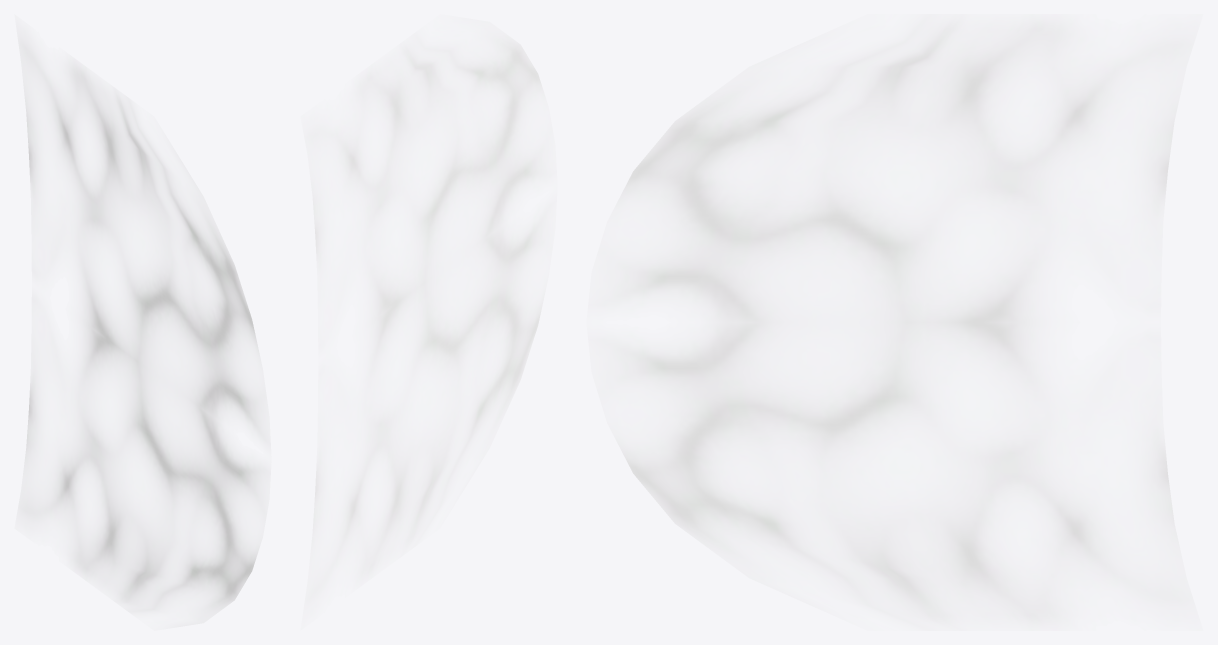
Rendered from fx_c851_proj__rblade005.glb.
3 views of the same model, side by side, from view 1: azimuth 30°, elevation 25°; view 2: azimuth 150°, elevation 25°; view 3: azimuth 270°, elevation 25° (orthographic). The views are drawn at different scales.
Visible parts, largest first — view 1: fx_c851_proj; view 2: fx_c851_proj; view 3: fx_c851_proj.
Boxes of the visible parts, x1=… form: fx_c851_proj: x1=17, y1=27, x2=270, y2=626; fx_c851_proj: x1=303, y1=18, x2=556, y2=617; fx_c851_proj: x1=588, y1=14, x2=1197, y2=630.
Bounding box in the file's own units: 0.000292 × 0.7785 × 0.7059.
Materials: 1 (1 with a texture image).
